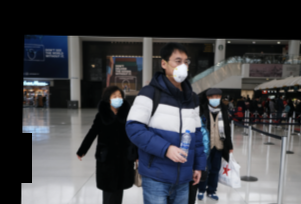with_mask: (167, 54, 191, 83), (109, 89, 124, 110), (208, 93, 222, 108)
